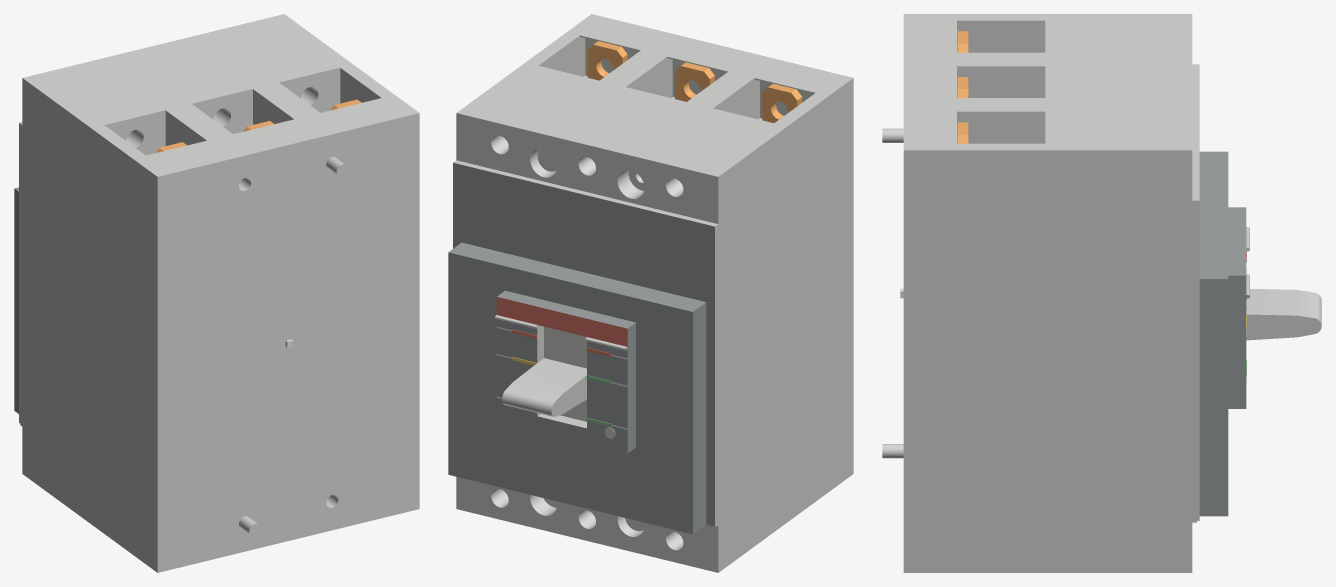
The picture shows the model from 3 angles, left to right: view 1: azimuth 30°, elevation 25°; view 2: azimuth 150°, elevation 25°; view 3: azimuth 270°, elevation 25°; orthographic projection. The views are drawn at different scales.
Visible parts, largest first — view 1: Body1; view 2: Body1; view 3: Body1.
Boxes of the visible parts, box(x1,y1,x2,y2) form: Body1: box(14, 14, 419, 572); Body1: box(448, 14, 853, 572); Body1: box(882, 14, 1321, 572).
Size of the model in its own units: 90 by 130 by 123.
